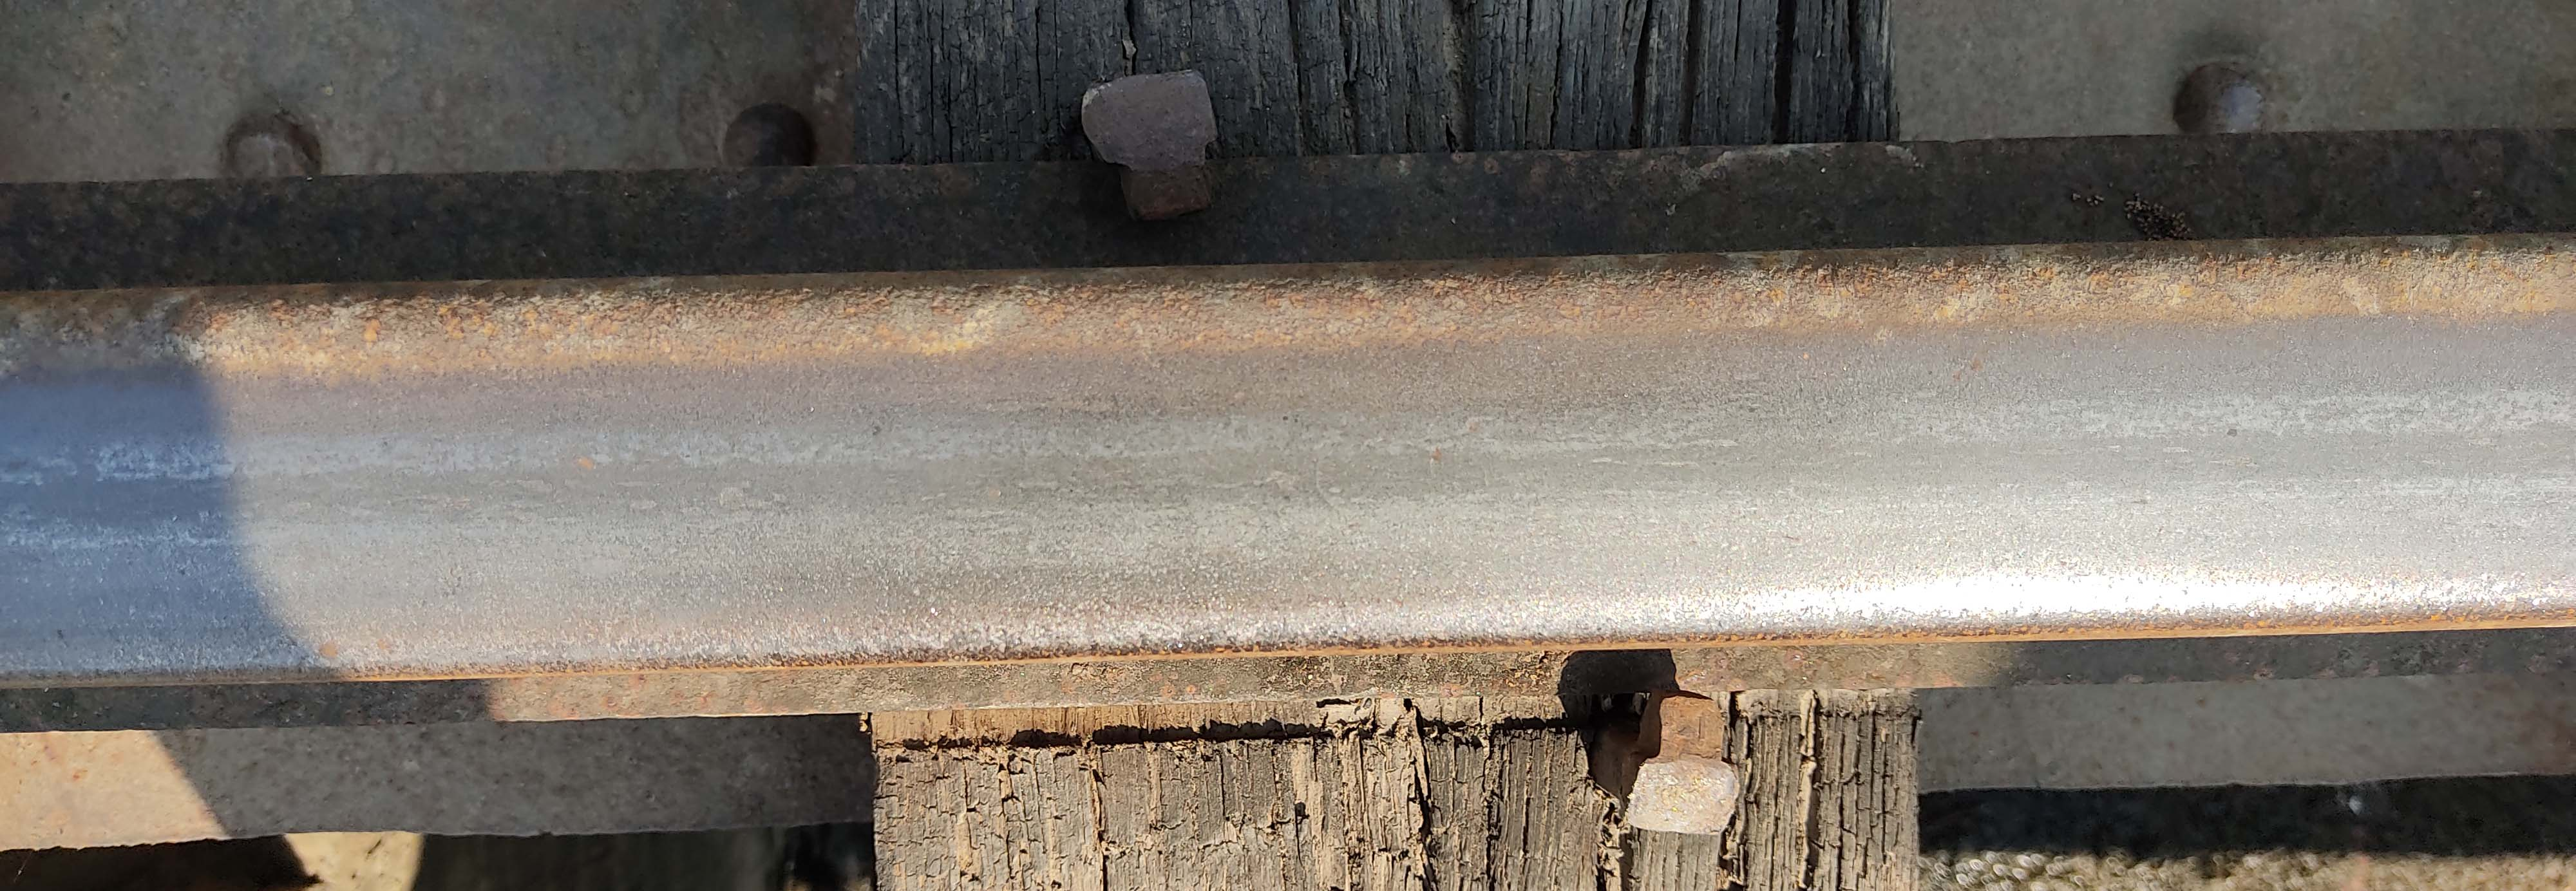error1: (1060, 53, 1364, 331), (1546, 592, 1791, 875)
